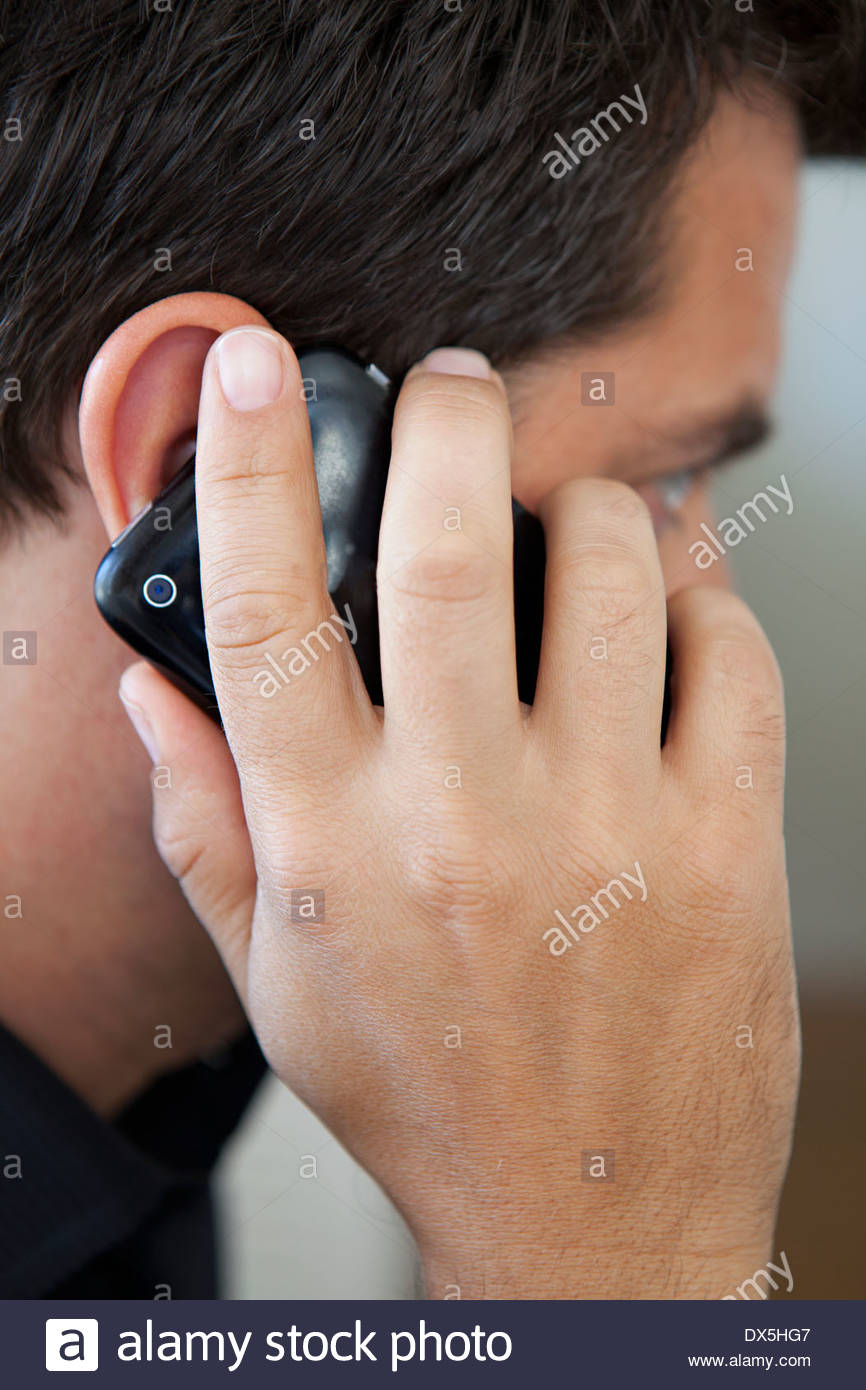phone: (104, 352, 712, 886)
